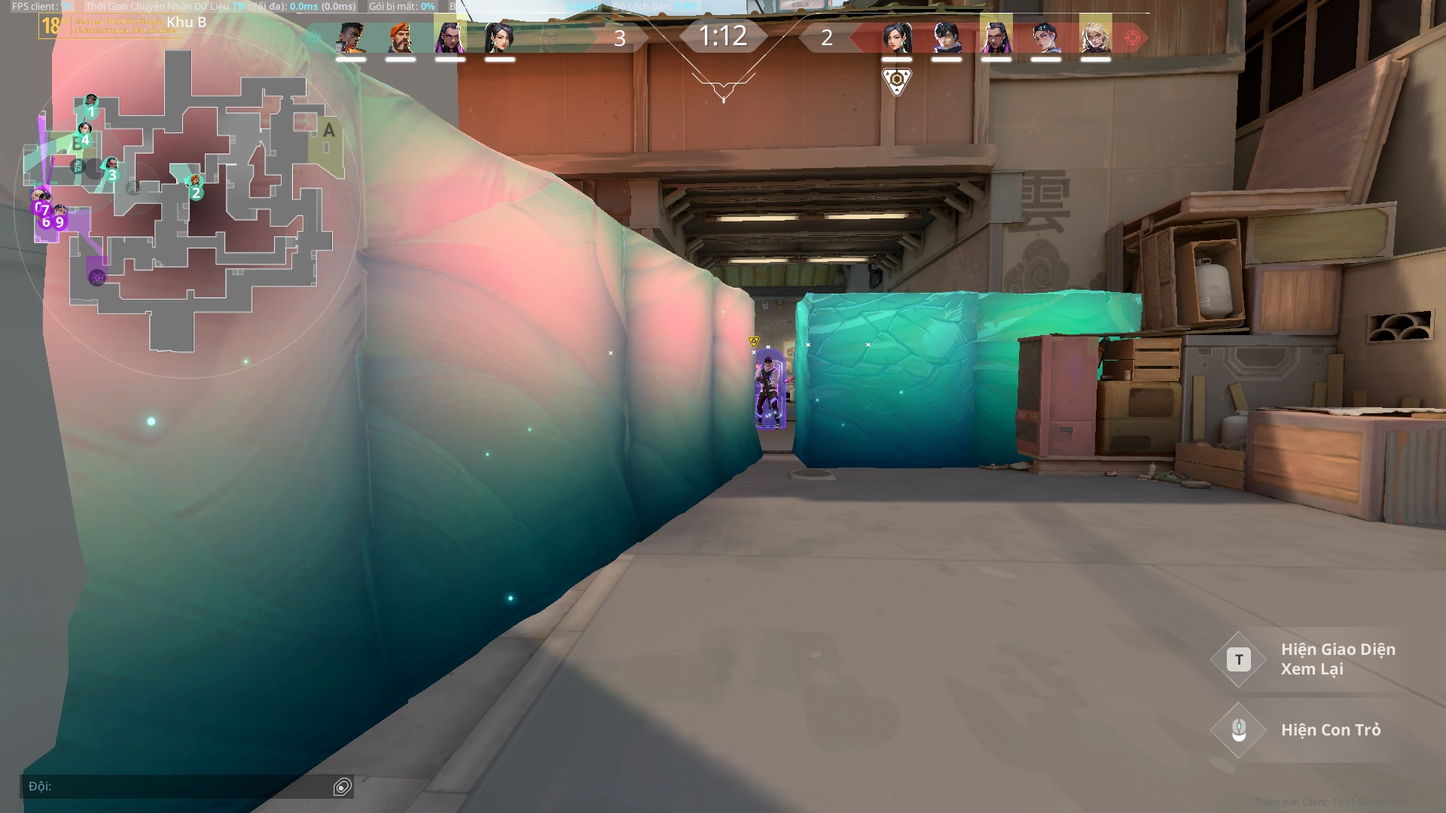body: (759, 364, 777, 390)
head: (763, 356, 773, 367)
